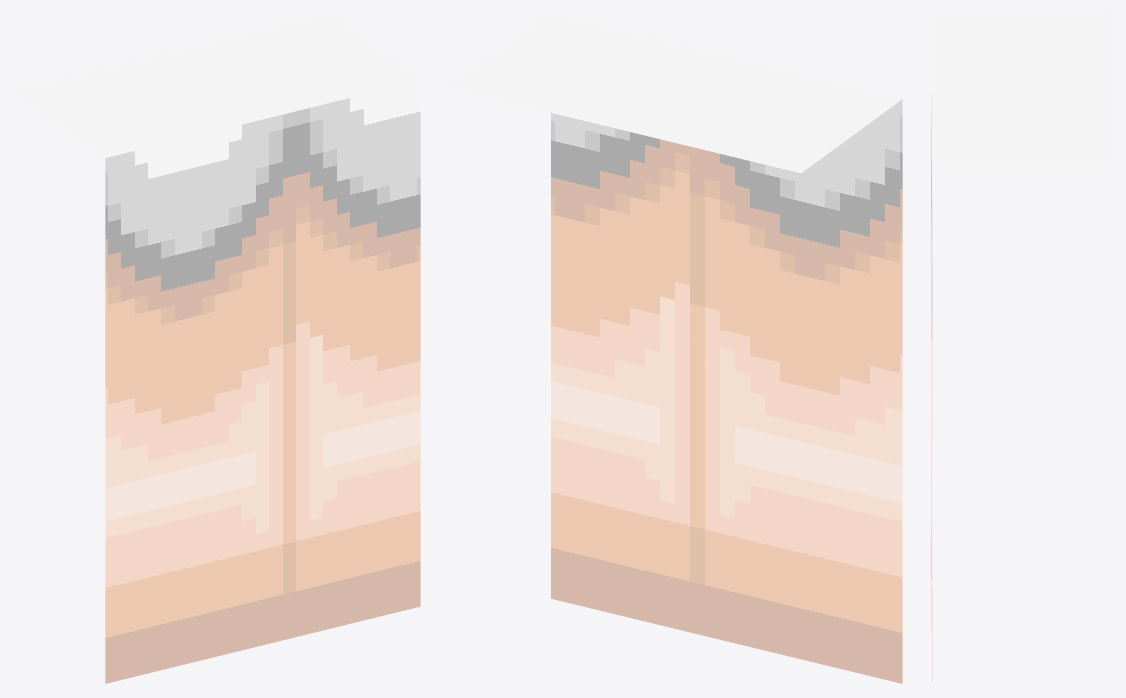
3 views of the same model, side by side, from view 1: azimuth 30°, elevation 25°; view 2: azimuth 150°, elevation 25°; view 3: azimuth 270°, elevation 25° (orthographic). The views are drawn at different scales.
Size of the model in its own units: 1 by 1.59 by 0.5028.
1 material, 1 textured.
